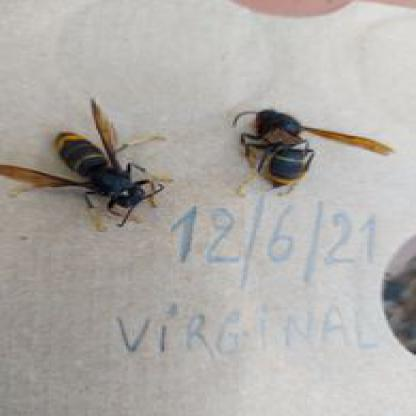Asian Hornet: (2, 100, 182, 231), (233, 97, 402, 193)
